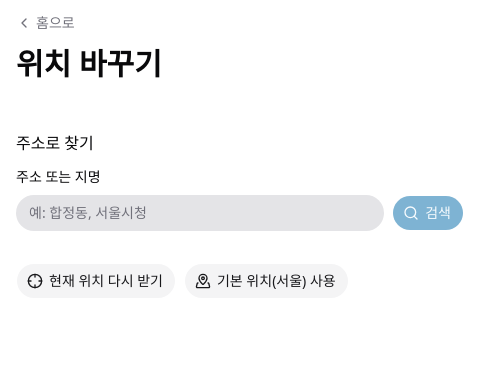
Test: LocationScreen: 주소 검색 › 검색하면 공백을 다듬은 검색어로 요청하고 결과를 보여 준다
The width and height of the screenshot is (481, 365).
Type "  서울시청 " into the field labelled "주소 또는 지명". click: (200, 212)
box: [16, 194, 384, 230]
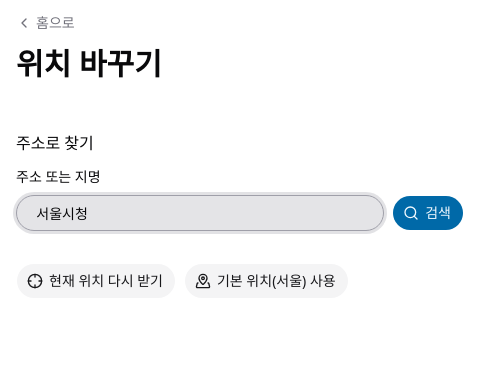
Click the button "검색". click: (428, 212)
box: [392, 194, 464, 230]
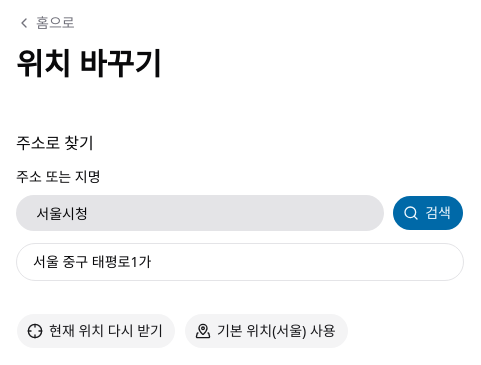
Expected: the button "서울 중구 태평로1가" is shown, [16, 242, 464, 280]
